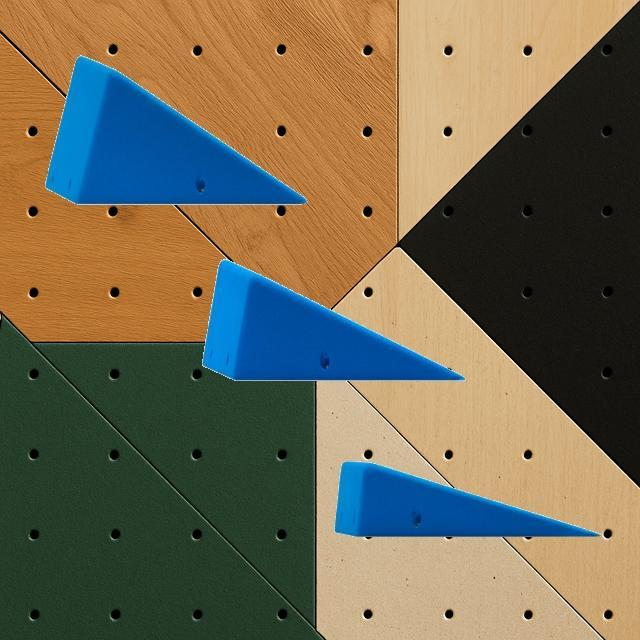Volume: (44, 54, 308, 206), (201, 258, 465, 382), (333, 459, 601, 538)
